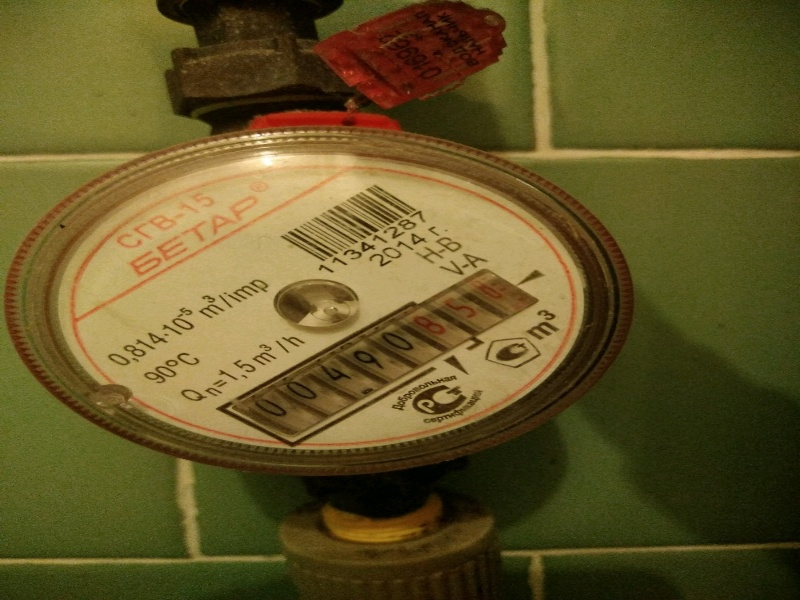meter: (250, 327, 519, 401)
